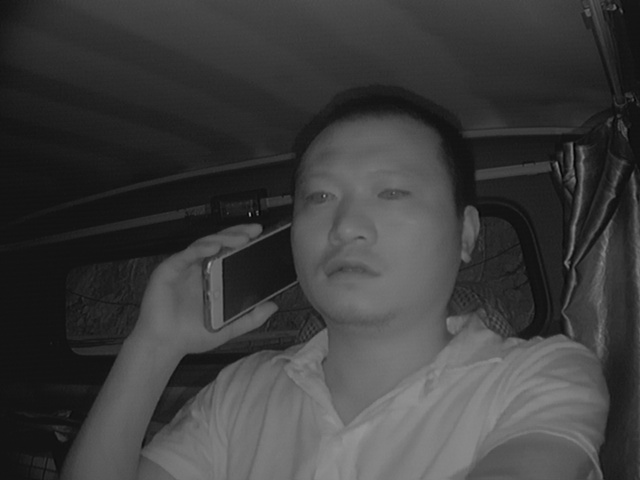hand: (142, 218, 274, 350)
